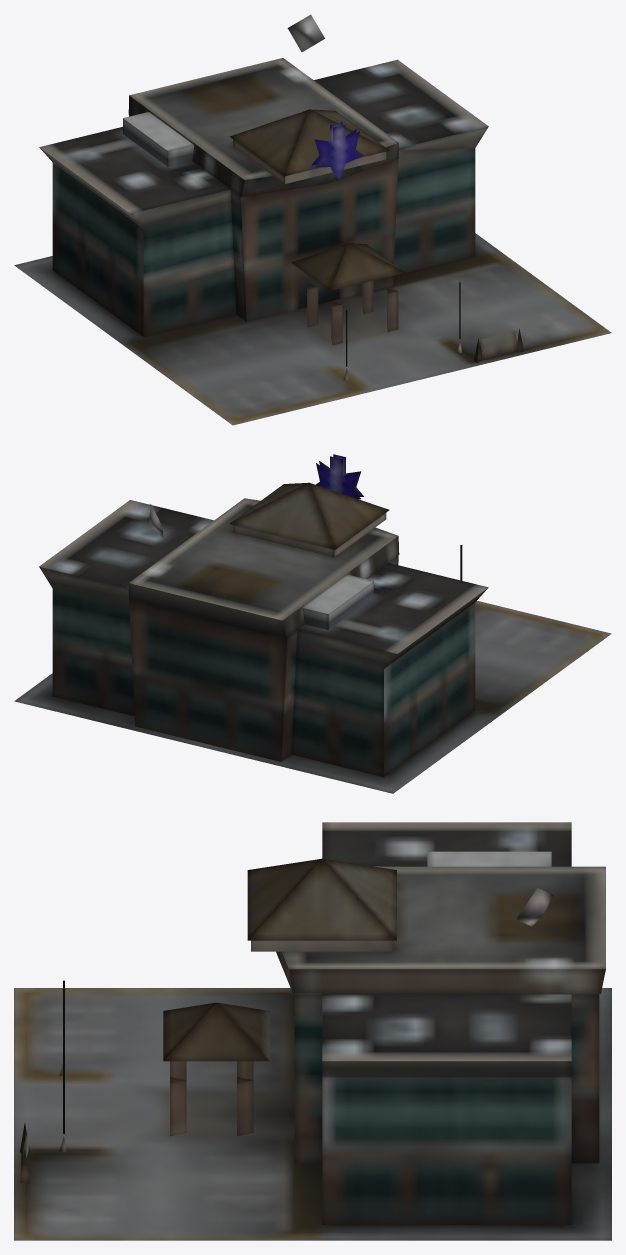
File: BLD_Medic_Level3.FBX
3 renders of one model, top to bottom at view 1: azimuth 30°, elevation 25°; view 2: azimuth 150°, elevation 25°; view 3: azimuth 270°, elevation 25°, orthographic. The views are drawn at different scales.
Visible parts, largest first — view 1: B_Sa_medic01_T1_L3; view 2: B_Sa_medic01_T1_L3; view 3: B_Sa_medic01_T1_L3.
Boxes of the visible parts, x1,y1,x2,y2 form: B_Sa_medic01_T1_L3: (14, 14, 611, 425); B_Sa_medic01_T1_L3: (14, 454, 611, 793); B_Sa_medic01_T1_L3: (14, 822, 611, 1240).
Bounding box in the file's own units: 4000 × 4000 × 2069.
